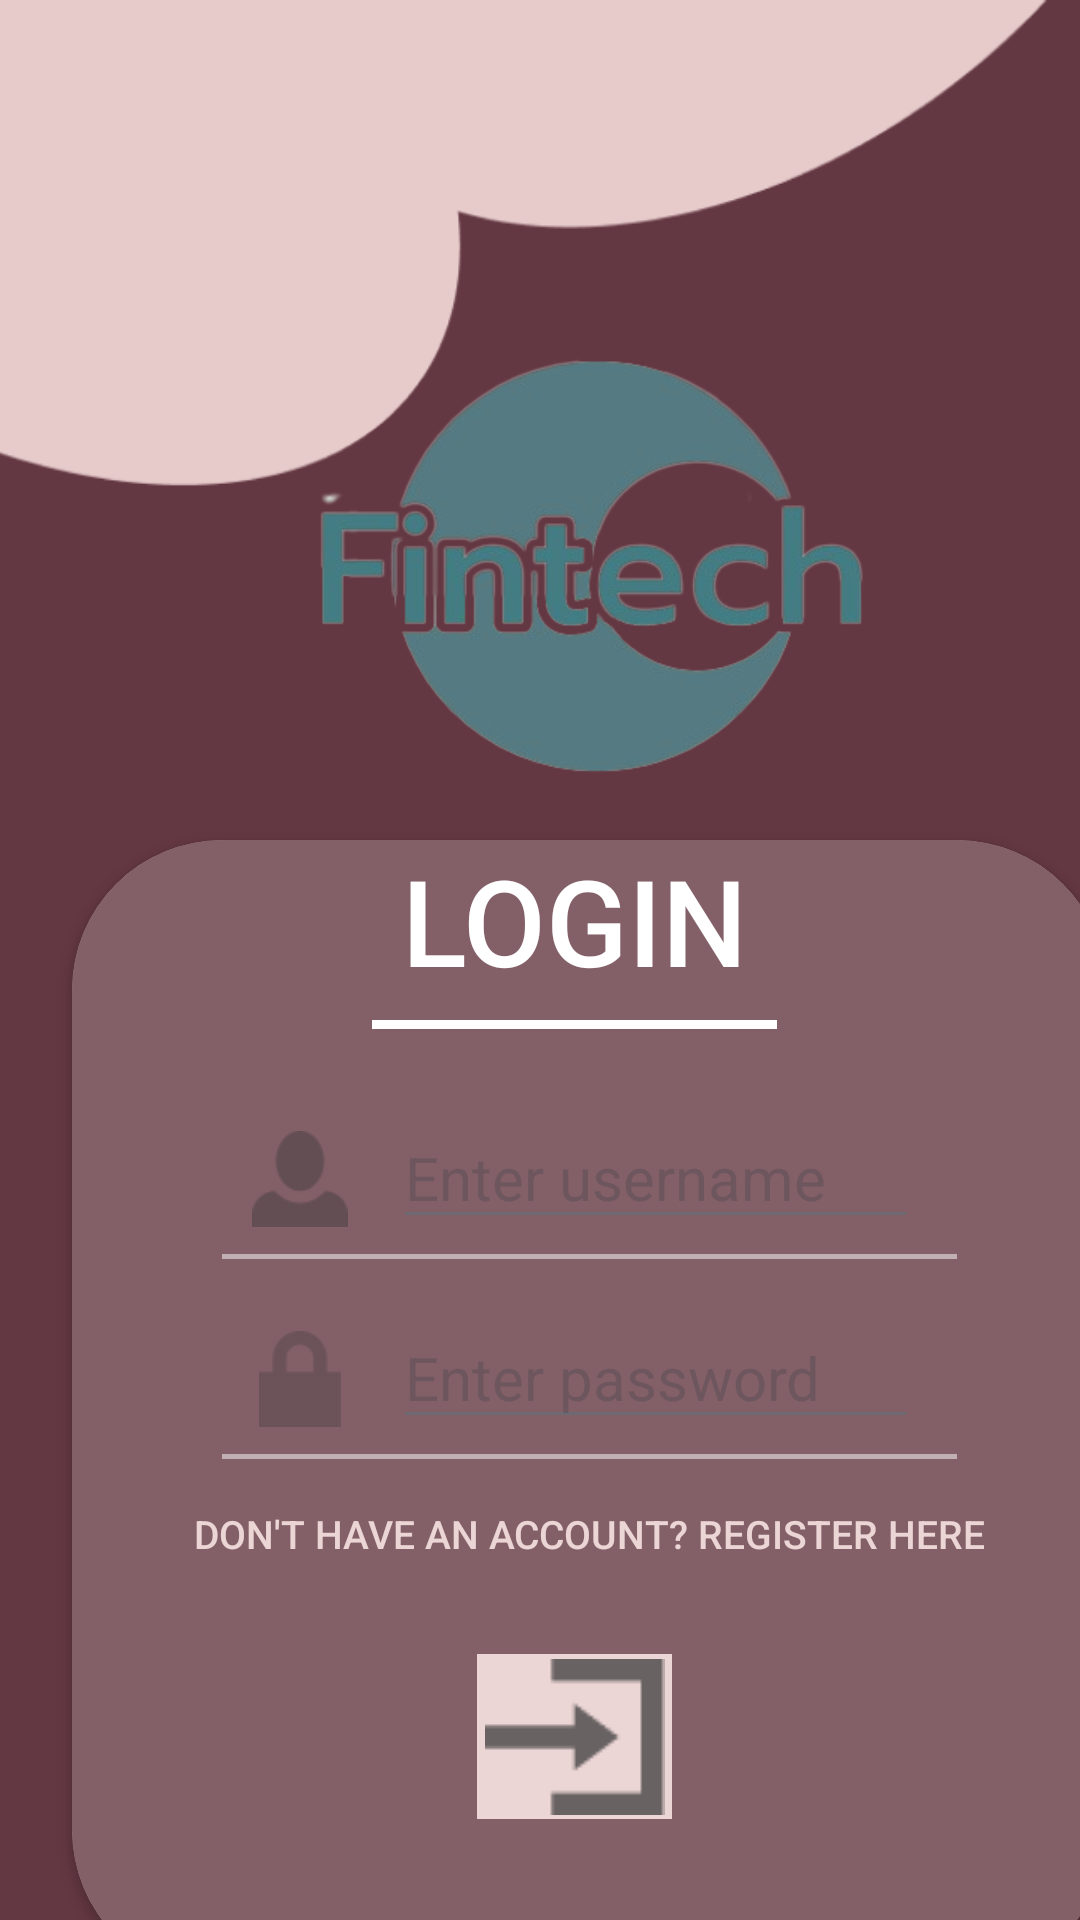

Where to tap for icons on this 1080w x 1920h app screen, as (x=x, y=y):
login: (x=574, y=1736)
